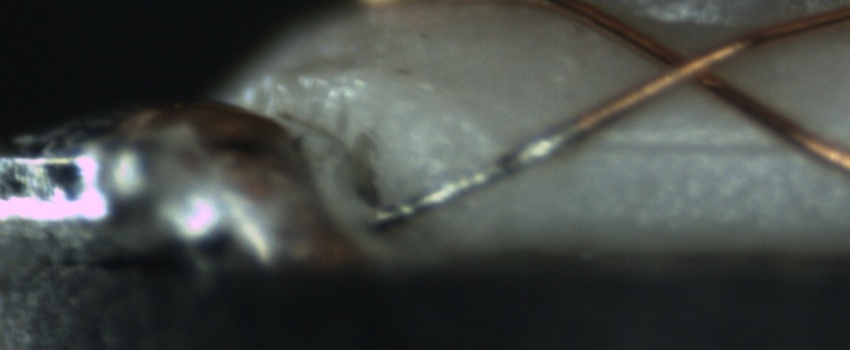CL: (638, 37, 740, 100)
DL: (563, 119, 807, 180)
TS: (375, 122, 578, 228)
TTCW: (369, 84, 647, 234)
